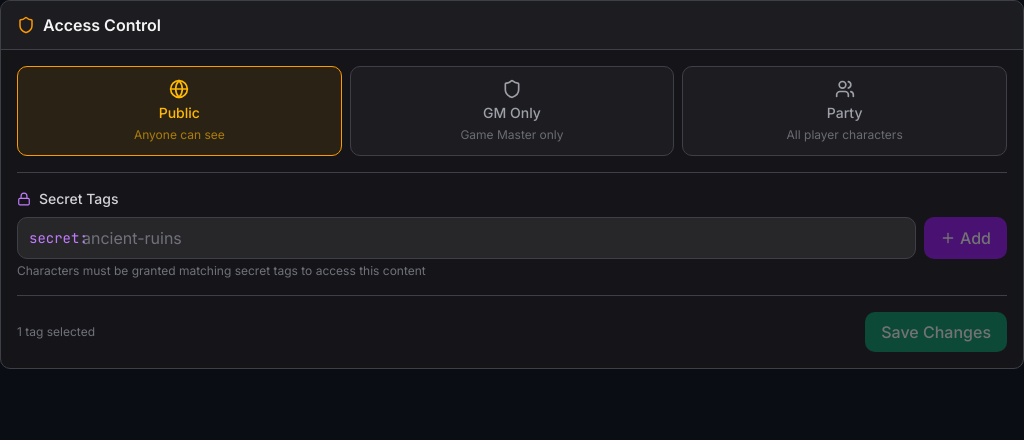
it: ScopeEditor › shows error when save fails
Click the button "GM Only Game Master only": (512,111) 350,66 -> 674,156
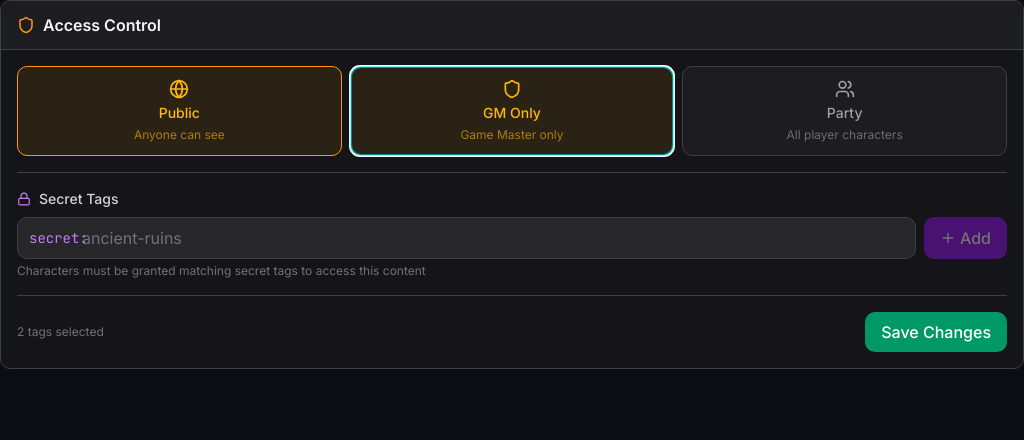
Click the button "Save Changes": (936,332) 865,312 -> 1007,352
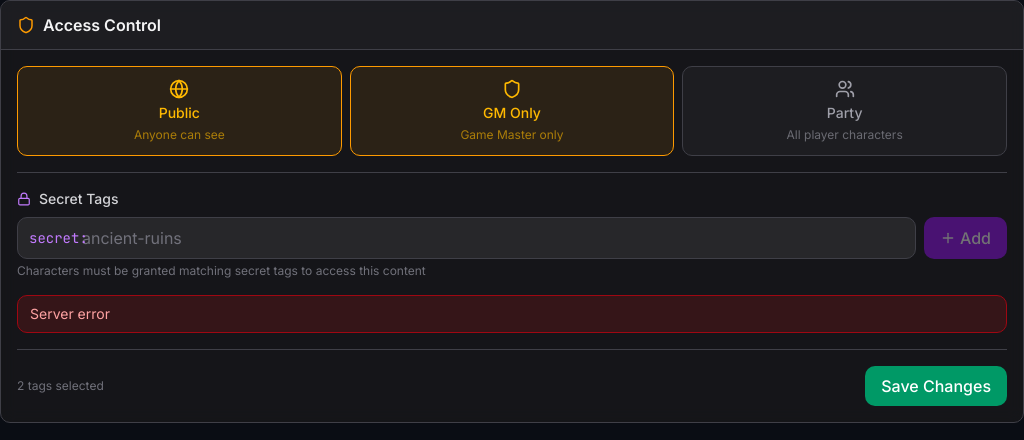
Check: the text "Server error" is shown, box 17,295 -> 1007,333
